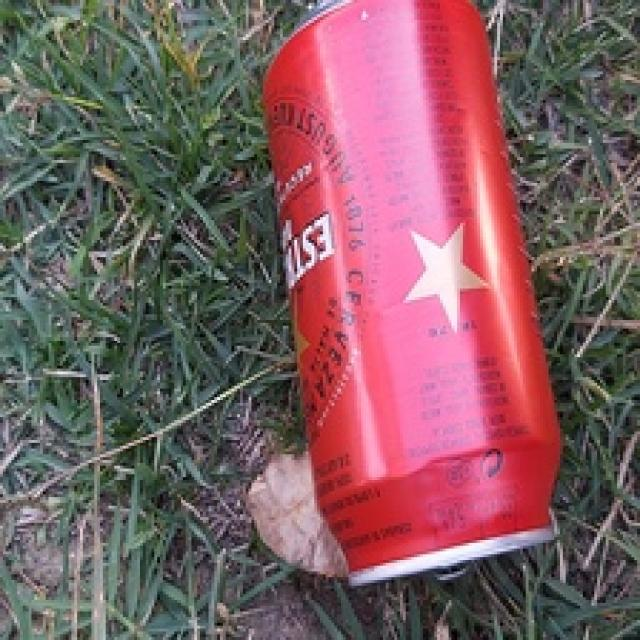recyclable: (260, 0, 564, 582)
